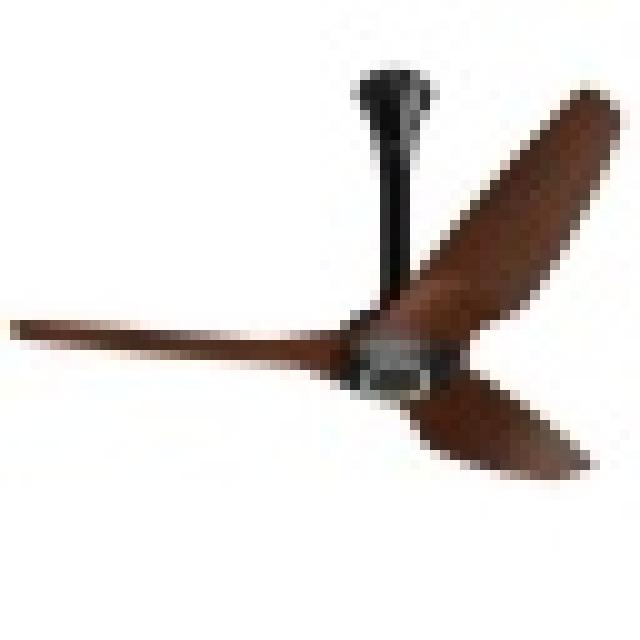Bulb: (29, 117, 640, 535)
